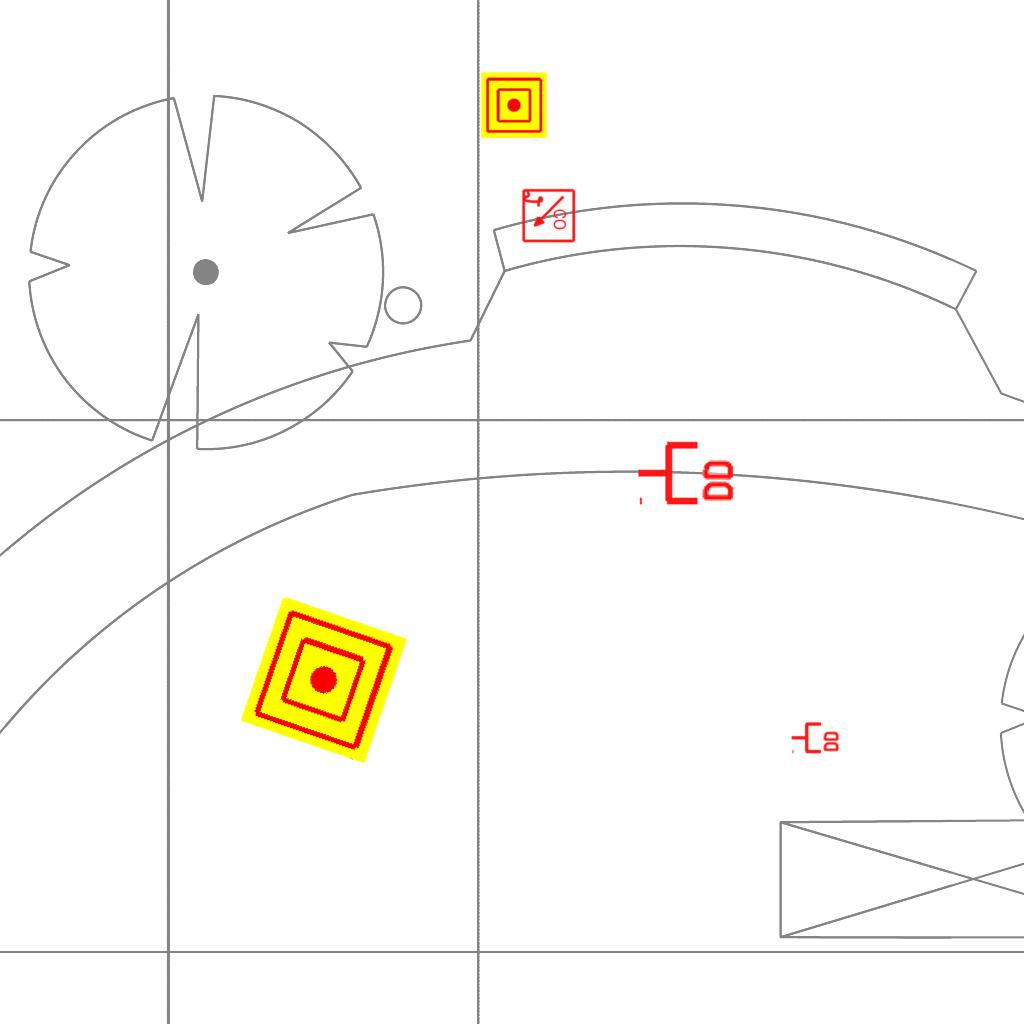Datenanschluss_zweifach: (635, 437, 738, 506), (790, 720, 841, 754)
NAM-Nichtautomatischer_Melder: (240, 596, 408, 764), (481, 72, 547, 138)
ROA_Rauchmelder_optisch_mit_Signalgeber_(Sockelsirene): (520, 188, 576, 244)
